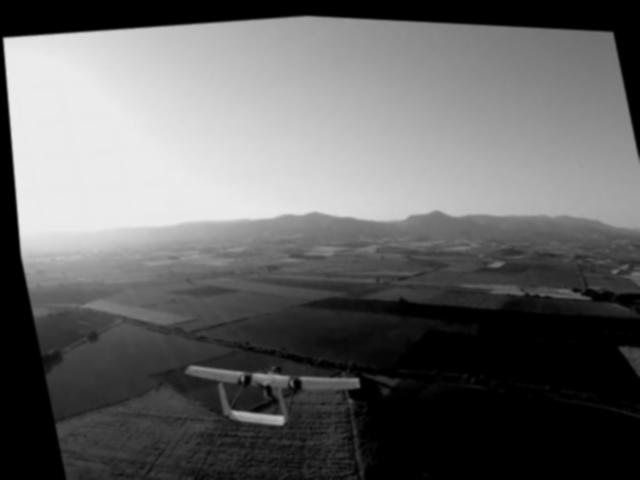hedef: (171, 335, 366, 445)
